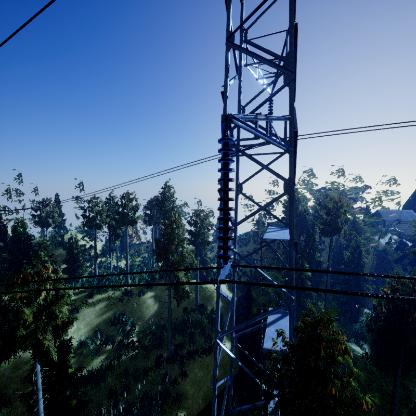insulator: (215, 135, 237, 265)
